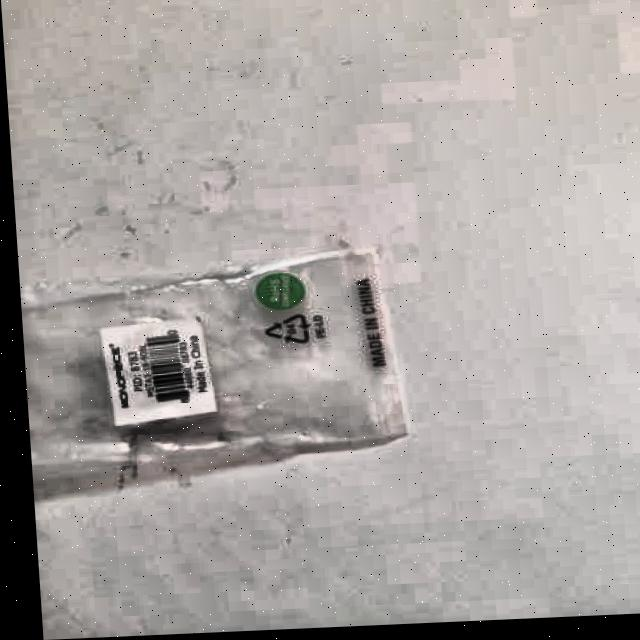plastic: (17, 235, 407, 492)
